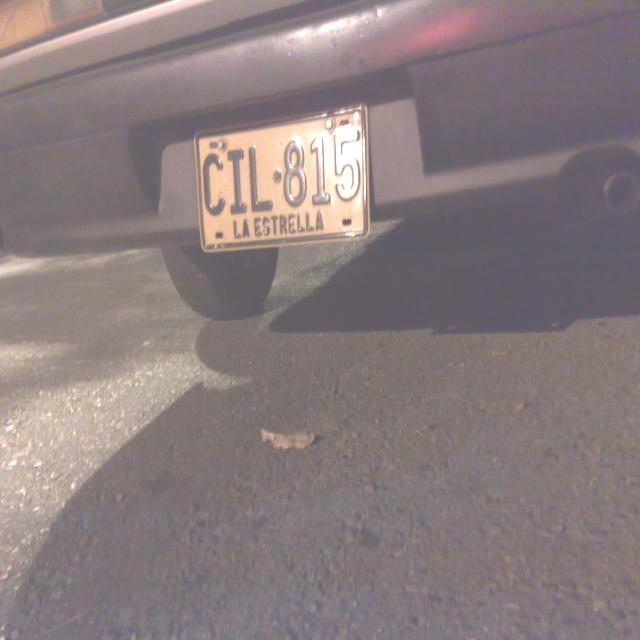placa: (184, 94, 374, 258)
